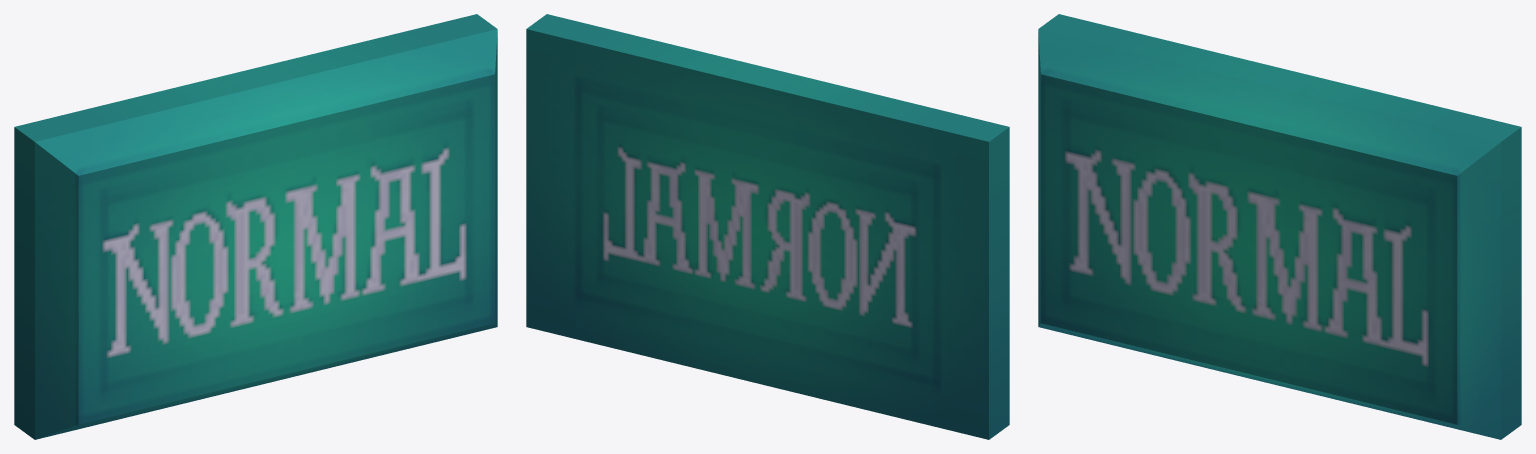
The model's file is menubutton.fbx.
The picture shows the model from 3 angles, left to right: view 1: azimuth 30°, elevation 25°; view 2: azimuth 150°, elevation 25°; view 3: azimuth 330°, elevation 25°; orthographic projection.
Visible parts, largest first — view 1: Plane.006; view 2: Plane.006; view 3: Plane.006.
Part boxes in pixels (box(x1,y1,x2,y2)): Plane.006: box(14, 14, 497, 439); Plane.006: box(526, 14, 1009, 439); Plane.006: box(1038, 14, 1521, 439).
Bounding box in the file's own units: 130 × 80 × 20.
